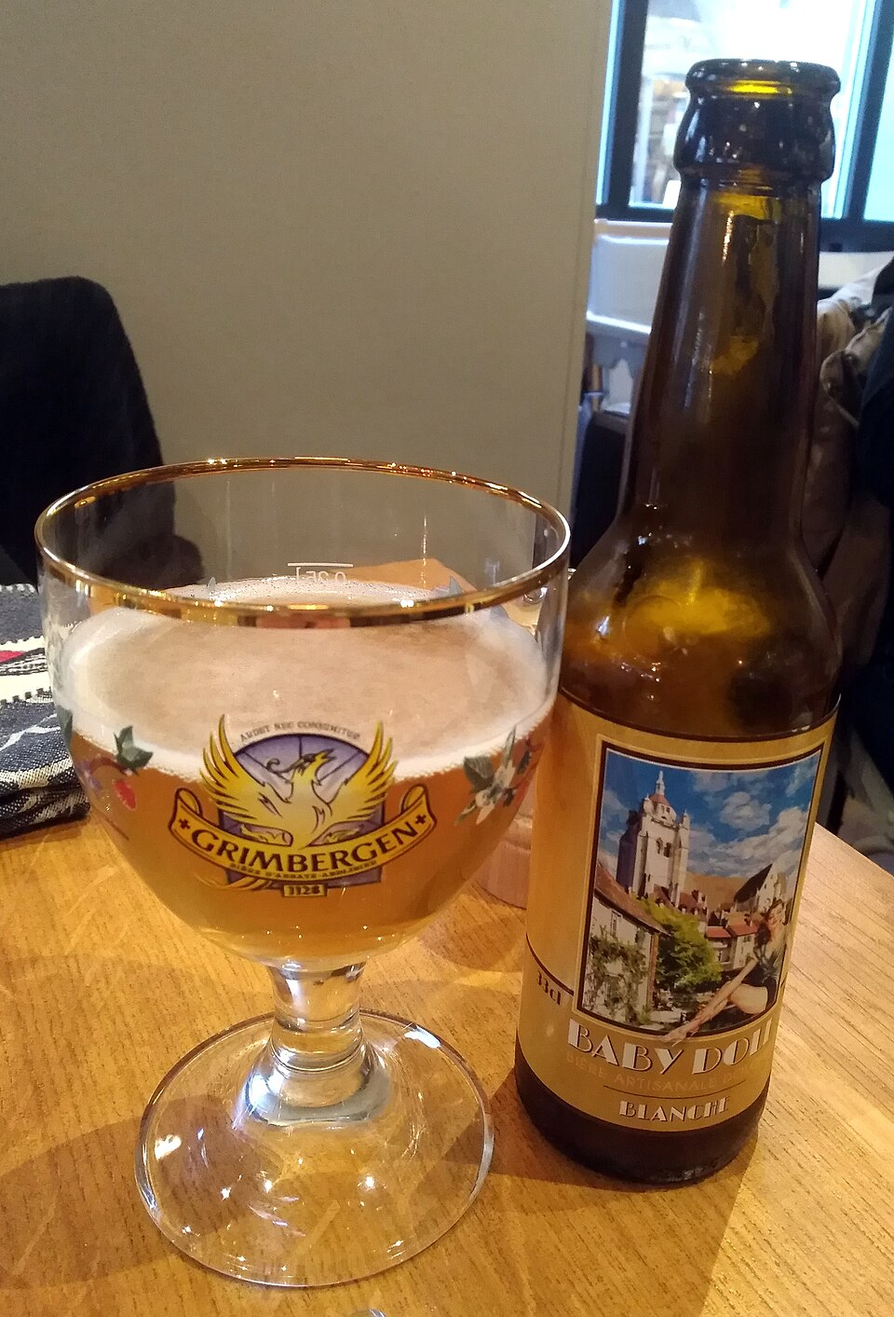beer-bottle: (521, 41, 849, 1224)
